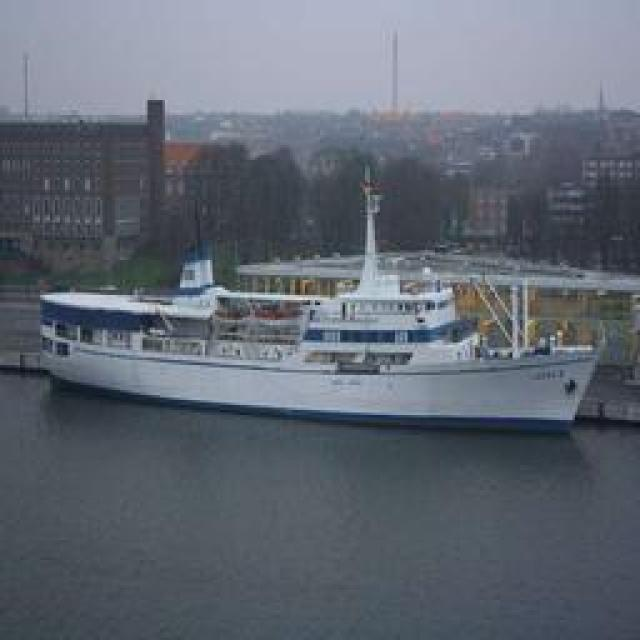ship2: (38, 176, 599, 437)
